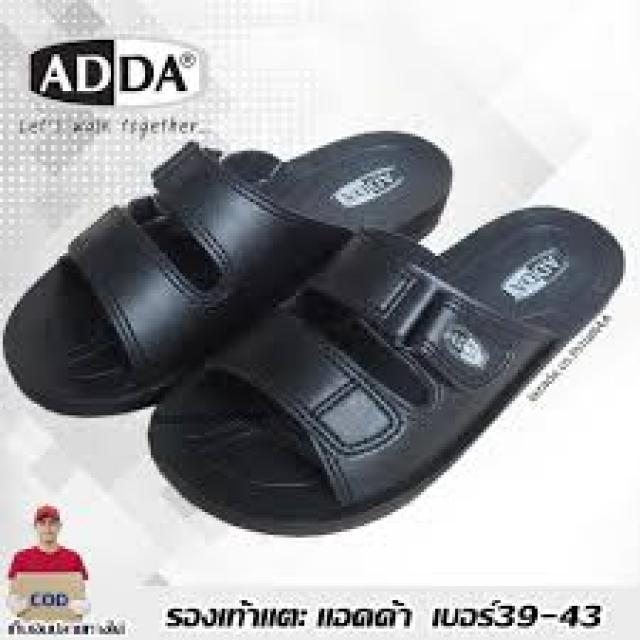shoe: (5, 132, 630, 548), (145, 202, 624, 520)
